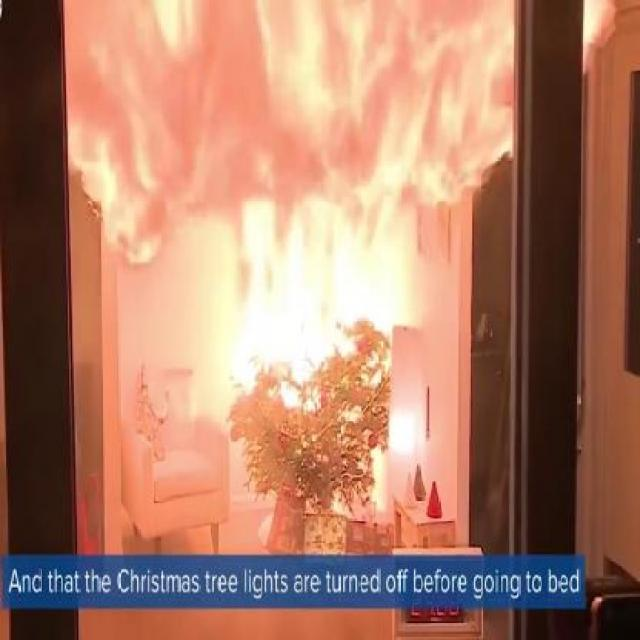fire: (195, 32, 431, 366)
